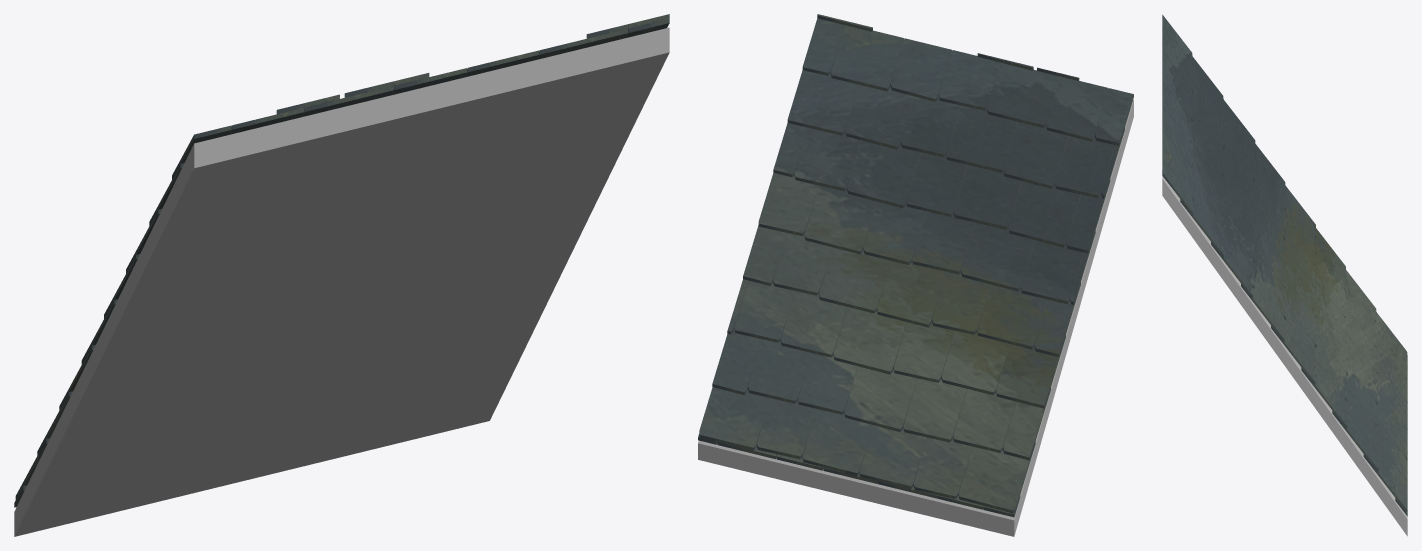
File: CM_SlateRoofKit01_Panel2x2p4_56p9.fbx
3 renders of one model, left to right at view 1: azimuth 30°, elevation 25°; view 2: azimuth 150°, elevation 25°; view 3: azimuth 270°, elevation 25°, orthographic. The views are drawn at different scales.
Visible parts, largest first — view 1: CM_SlateRoofKit01_Panel2x2p4_56p9_Underlay, CM_SlateRoofKit01_Panel2x2p4_56p9_Slate; view 2: CM_SlateRoofKit01_Panel2x2p4_56p9_Slate, CM_SlateRoofKit01_Panel2x2p4_56p9_Underlay; view 3: CM_SlateRoofKit01_Panel2x2p4_56p9_Slate, CM_SlateRoofKit01_Panel2x2p4_56p9_Underlay.
Part boxes in pixels (x1,y1,x2,y2): CM_SlateRoofKit01_Panel2x2p4_56p9_Underlay: (14,27,669,536); CM_SlateRoofKit01_Panel2x2p4_56p9_Slate: (14,14,669,507); CM_SlateRoofKit01_Panel2x2p4_56p9_Slate: (698,14,1133,517); CM_SlateRoofKit01_Panel2x2p4_56p9_Underlay: (698,100,1133,536); CM_SlateRoofKit01_Panel2x2p4_56p9_Slate: (1162,14,1407,516); CM_SlateRoofKit01_Panel2x2p4_56p9_Underlay: (1162,176,1407,536).
Size of the model in its own units: 2 by 2.16 by 1.31.
